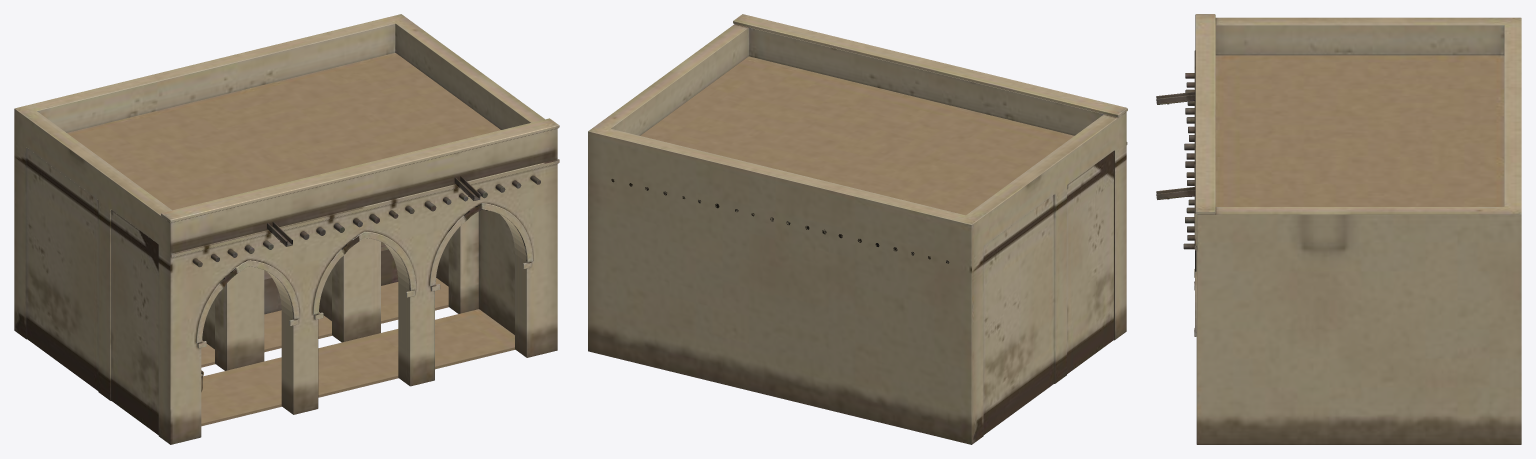
The model's file is souq_bldB_m.glb.
3 views of the same model, side by side, from view 1: azimuth 30°, elevation 25°; view 2: azimuth 150°, elevation 25°; view 3: azimuth 270°, elevation 25° (orthographic). The views are drawn at different scales.
Parts seen in each view (by area): view 1: GX_bldB_LOD0; view 2: GX_bldB_LOD0; view 3: GX_bldB_LOD0.
Boxes of the visible parts, left/top/right/bottom form: GX_bldB_LOD0: left=14, top=14, right=559, bottom=444; GX_bldB_LOD0: left=588, top=14, right=1127, bottom=444; GX_bldB_LOD0: left=1156, top=14, right=1521, bottom=444.
Size of what is drawn, in the model's own units: 9.35 by 5.19 by 7.31.
Materials: 2 (1 with a texture image).
